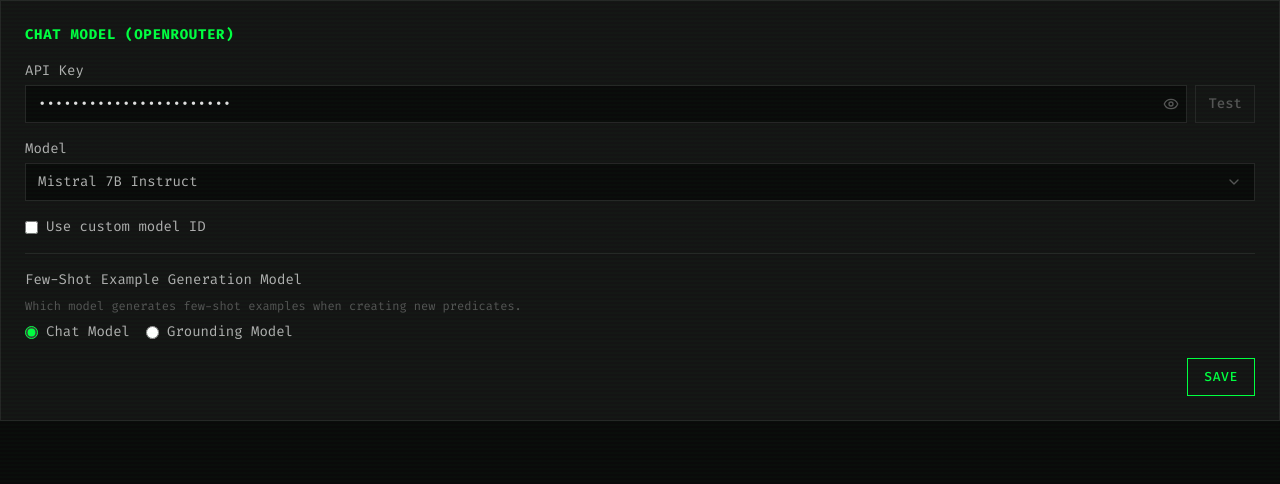
OpenRouterConfig › checking custom model checkbox shows text input
Click the checkbox with test id "custom-model-checkbox": (32, 227) [25,220,38,234]
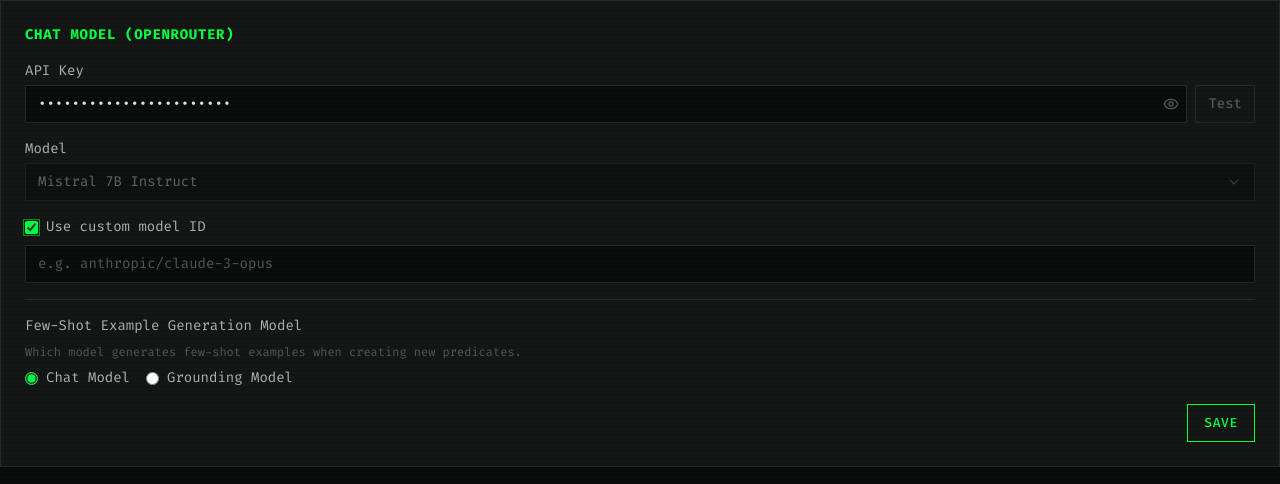
Result: the field with test id "custom-model-input" is shown at [25,245,1255,283]
